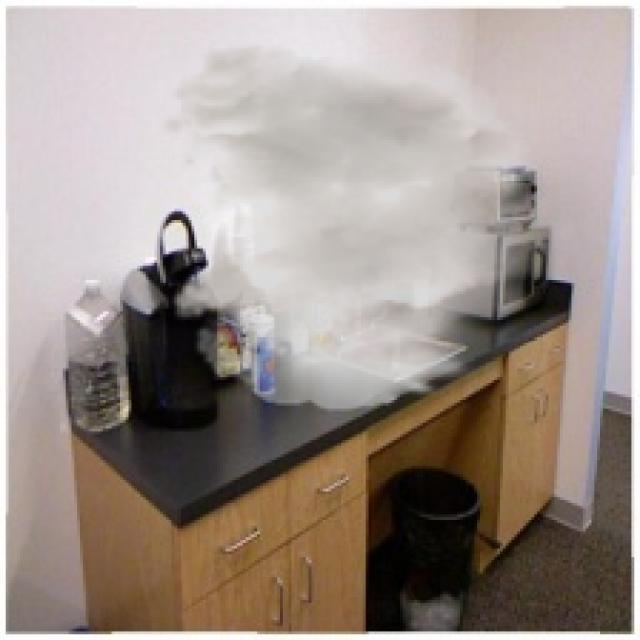Smoke: (160, 42, 586, 412)
